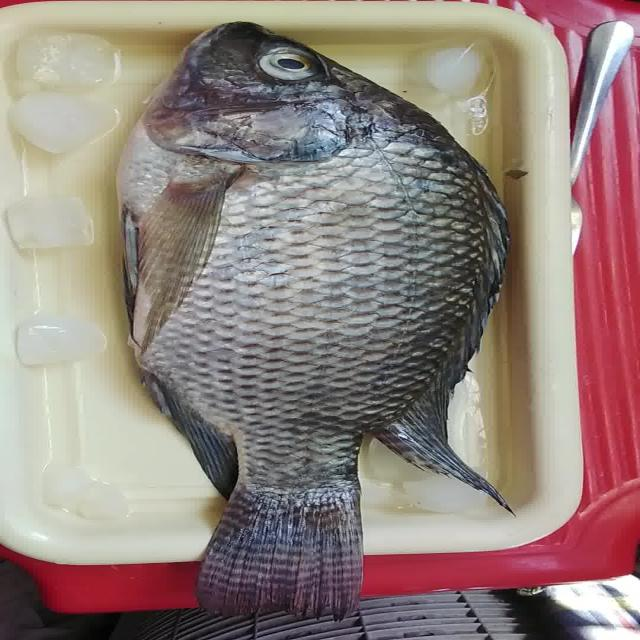Fresh: (115, 108, 528, 626), (237, 40, 356, 101)
